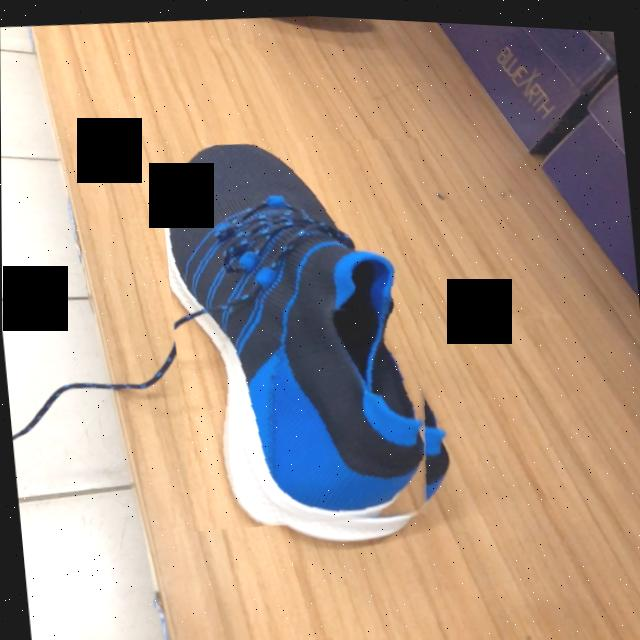shoe: (163, 141, 431, 518)
